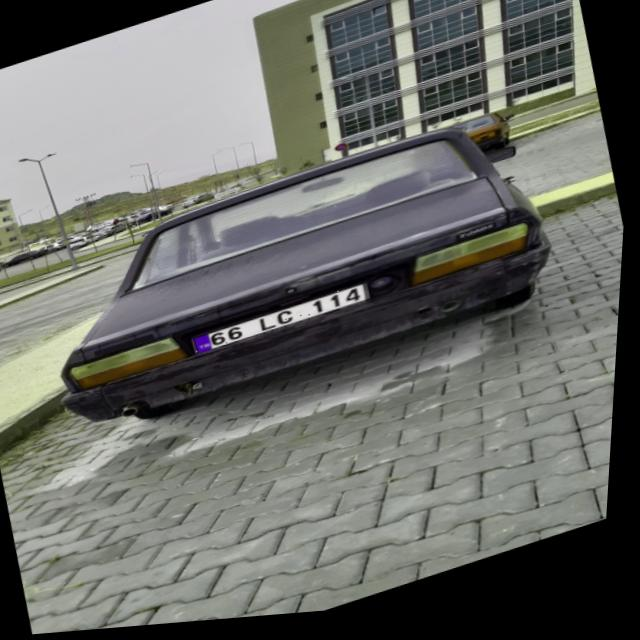license_plate: (196, 288, 374, 359)
